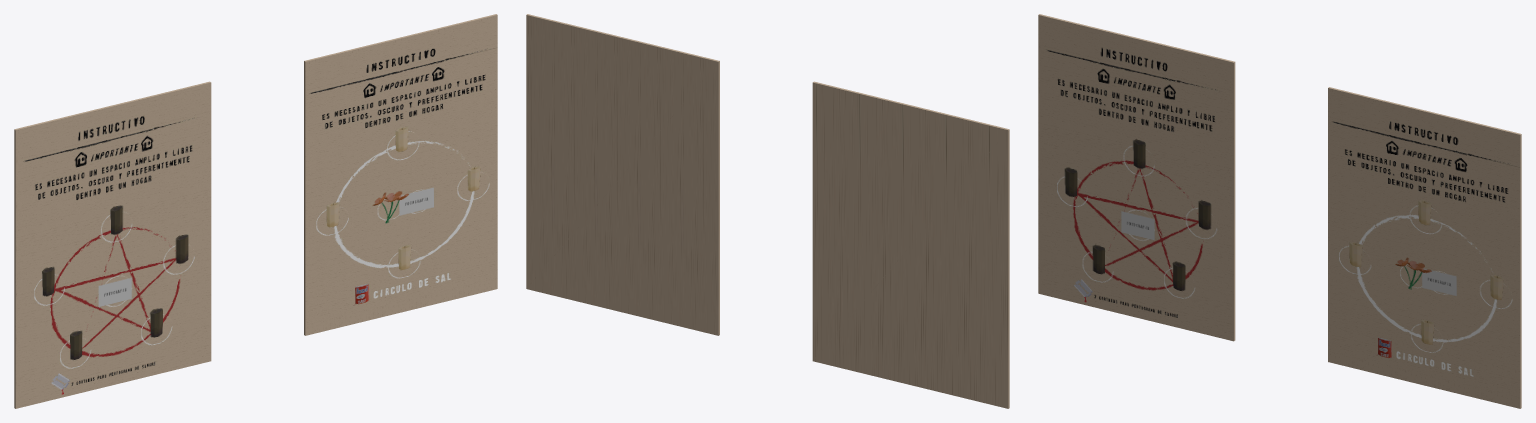
Rendered from INSTRUCTIVO_2.fbx.
3 views of the same model, side by side, from view 1: azimuth 30°, elevation 25°; view 2: azimuth 150°, elevation 25°; view 3: azimuth 330°, elevation 25° (orthographic).
Visible parts, largest first — view 1: Cube.070, Cube.076; view 2: Cube.070, Cube.076; view 3: Cube.070, Cube.076.
Part boxes in pixels (box(x1,y1,x2,y2)): Cube.070: box(14, 81, 211, 408); Cube.076: box(304, 14, 497, 335); Cube.070: box(812, 81, 1009, 408); Cube.076: box(526, 14, 719, 335); Cube.070: box(1038, 14, 1235, 341); Cube.076: box(1328, 87, 1521, 408).
Bounding box in the file's own units: 95.74 × 52.89 × 0.4478.
